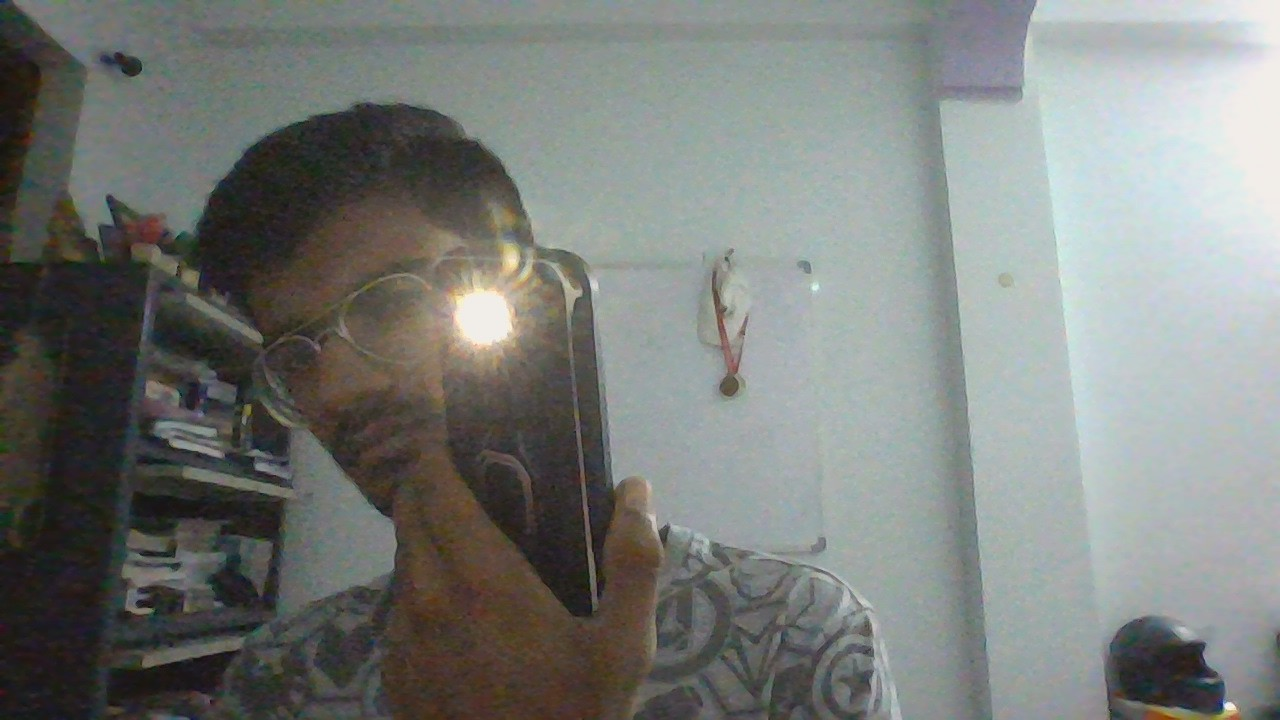Glare: (448, 288, 515, 346)
